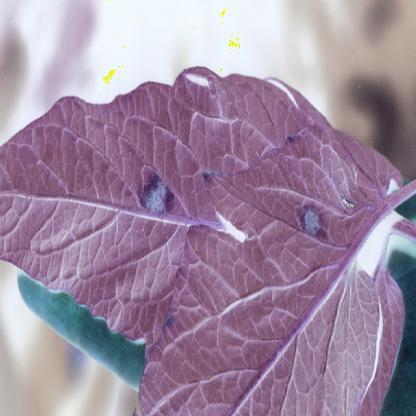Tomato mold leaf: (0, 64, 382, 354), (119, 126, 408, 415)
